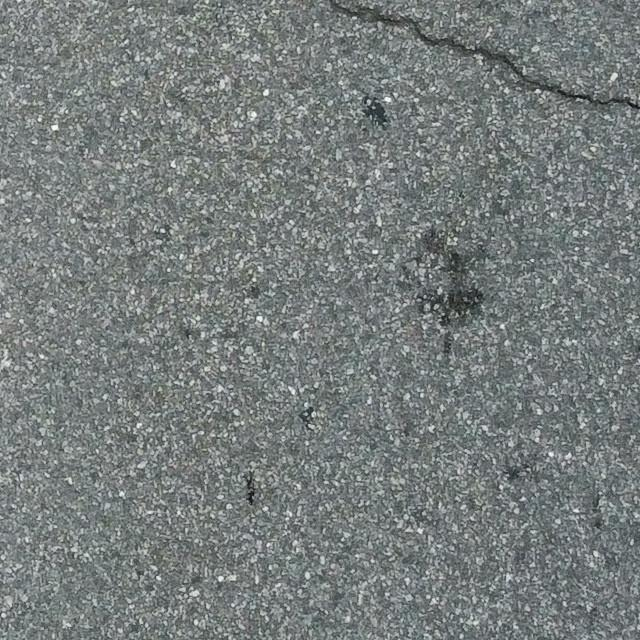TransverseCrack: (330, 1, 640, 107)
